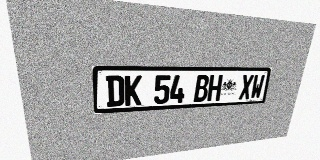4: (169, 75, 186, 103)
5: (154, 75, 171, 104)
B: (193, 75, 210, 102)
D: (106, 75, 124, 107)
H: (207, 75, 223, 101)
K: (125, 75, 142, 106)
W: (250, 75, 265, 99)
X: (238, 75, 254, 100)
